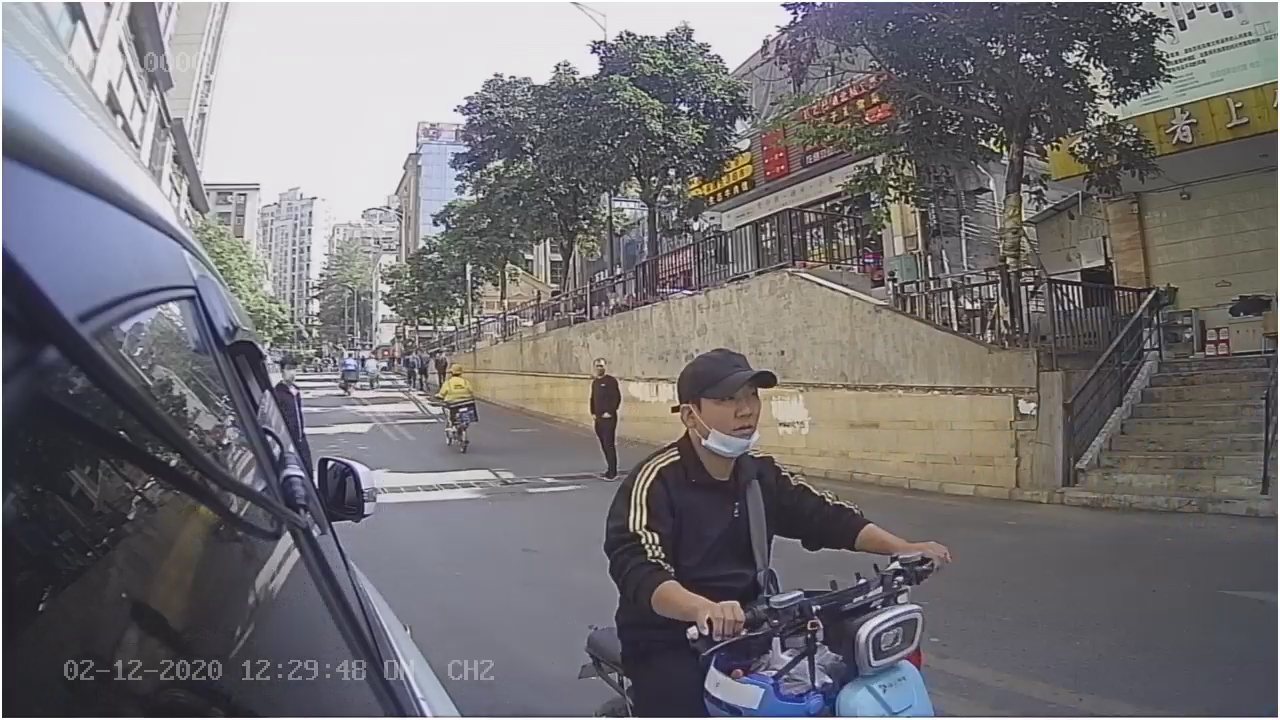person: (606, 346, 858, 637)
